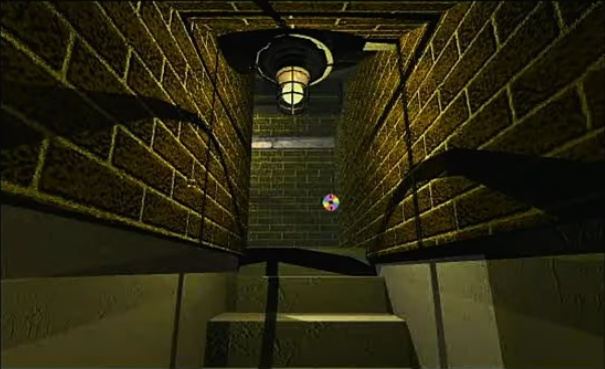Waiting: (318, 191, 343, 212)
